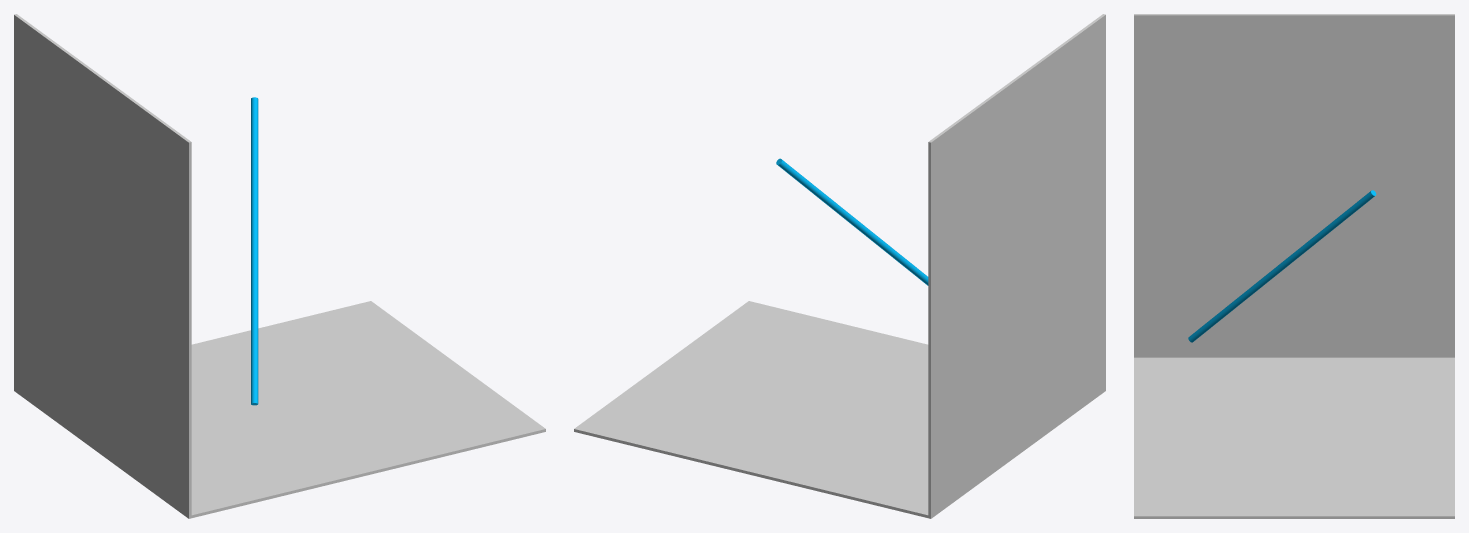
3 renders of one model, left to right at view 1: azimuth 30°, elevation 25°; view 2: azimuth 150°, elevation 25°; view 3: azimuth 270°, elevation 25°, orthographic. The views are drawn at different scales.
Visible parts, largest first — view 1: Mesh1_Model, Mesh2_Model; view 2: Mesh1_Model, Mesh2_Model; view 3: Mesh1_Model, Mesh2_Model.
Part boxes in pixels (x1=…): Mesh1_Model: x1=14, y1=14, x2=545, y2=518; Mesh2_Model: x1=251, y1=97, x2=258, y2=405; Mesh1_Model: x1=574, y1=14, x2=1105, y2=518; Mesh2_Model: x1=776, y1=158, x2=928, y2=285; Mesh1_Model: x1=1134, y1=14, x2=1454, y2=518; Mesh2_Model: x1=1188, y1=190, x2=1376, y2=342.
Bounding box in the file's own units: 11.41 × 11.49 × 9.68.
